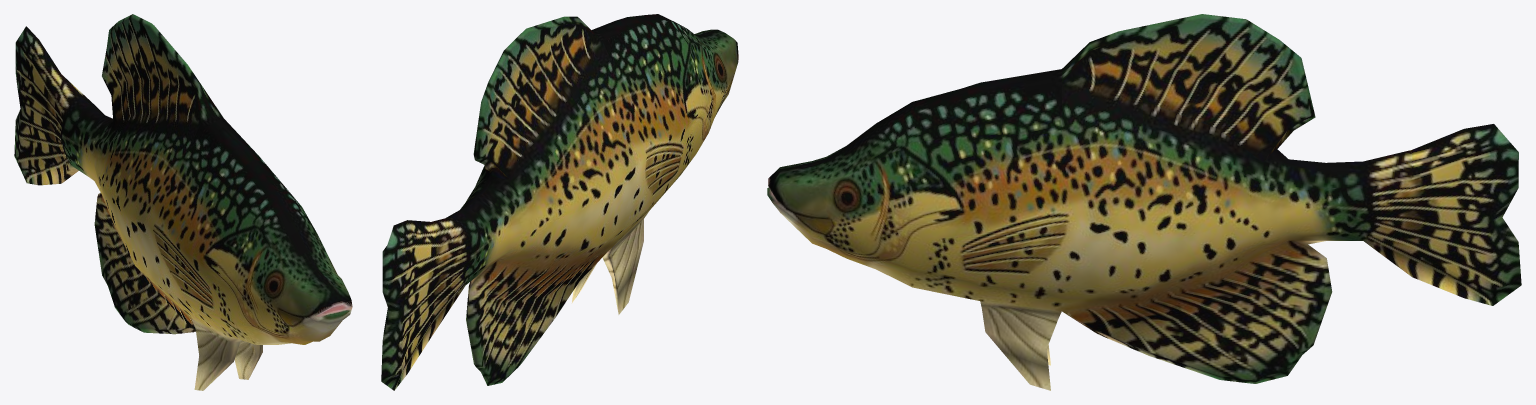
File: crappie.glb
3 renders of one model, left to right at view 1: azimuth 30°, elevation 25°; view 2: azimuth 150°, elevation 25°; view 3: azimuth 270°, elevation 25°, orthographic. The views are drawn at different scales.
Parts seen in each view (by area): view 1: Fish; view 2: Fish; view 3: Fish.
Part boxes in pixels (x1,y1,x2,y2): Fish: (14, 14, 352, 390); Fish: (381, 14, 738, 390); Fish: (767, 14, 1521, 390).
Size of the model in its own units: 1.88 by 5.03 by 9.29.
1 material, 1 textured.
